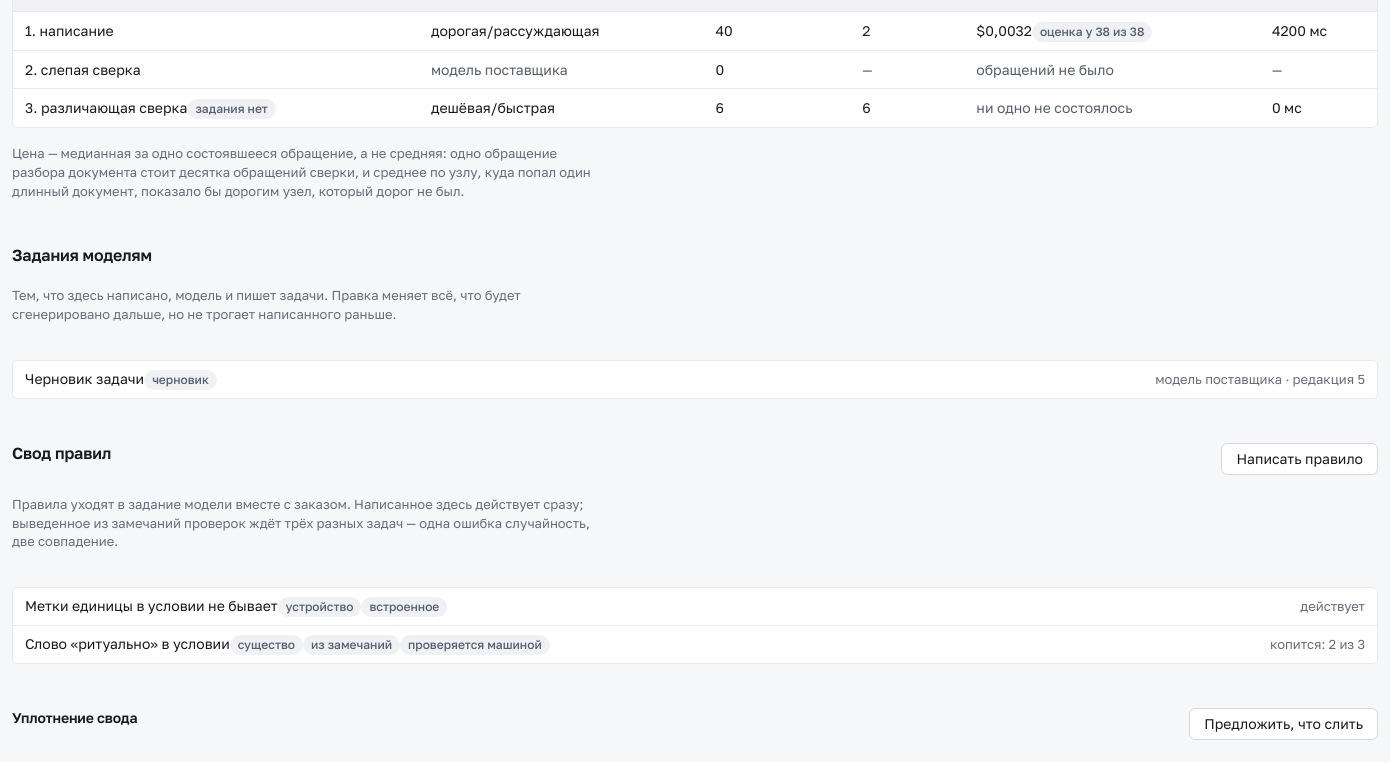
Scenario: мастерская › черновик от прежней редакции не подставляется молча
The image size is (1390, 762).
Earlier steps of the test are not shown.
(page scrolled)
What coordinates should you click on to do the following:
click the text "Черновик задачи"
I would click on:
 (121, 379)
Its box is [25,369,217,390].
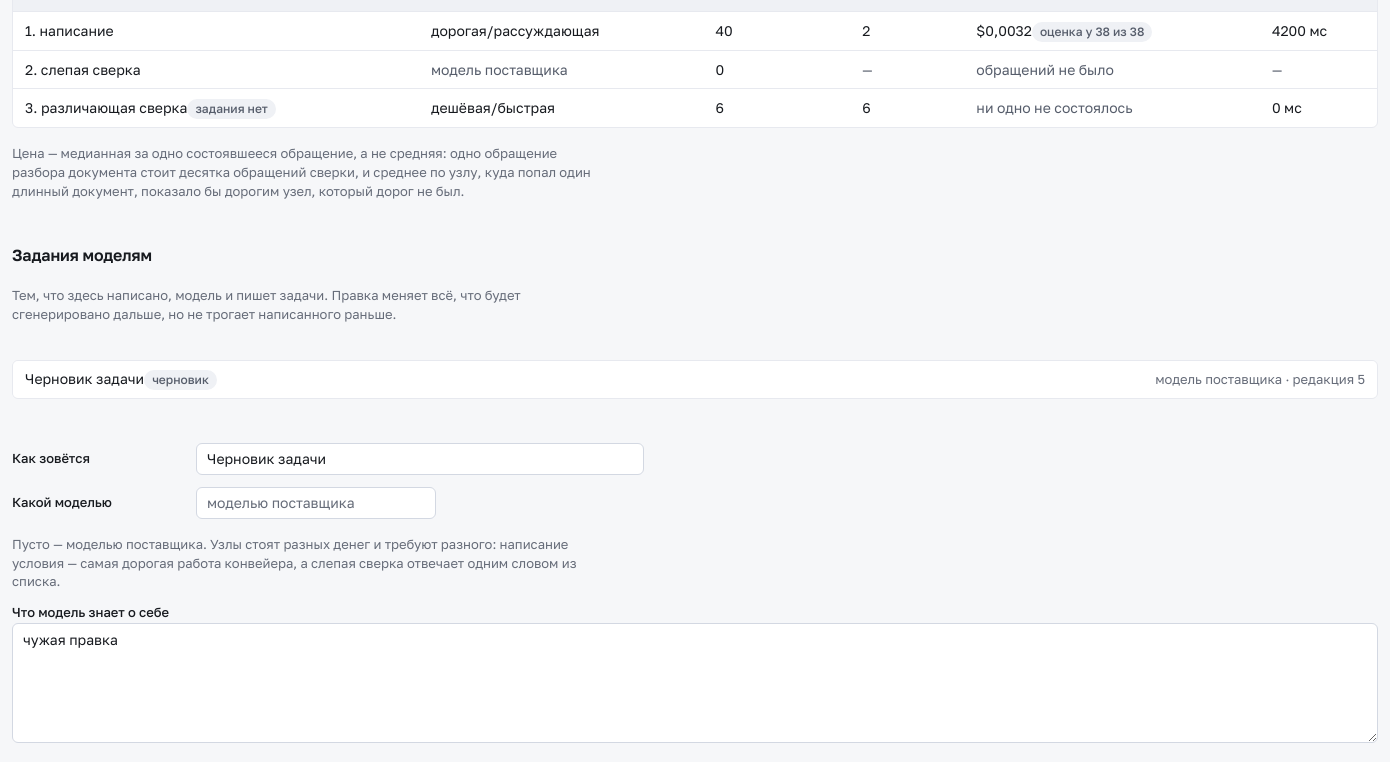
Now the text box showing "чужая правка" is shown, box [12,623,1378,743]
